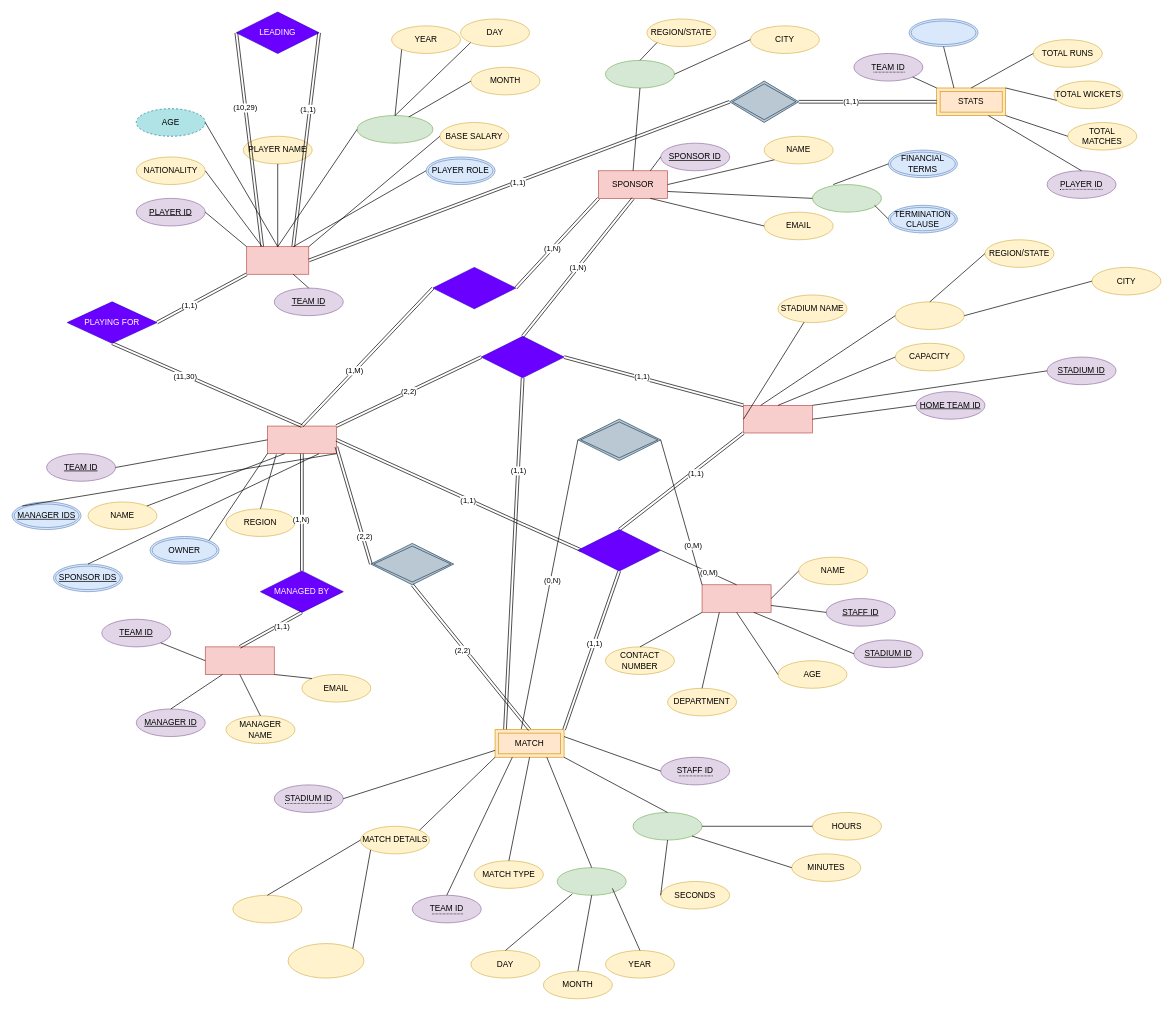
This 1173x1011 diagram has some shape labels left out. The box of each missing label's shape, as (x1, y1, x2, y2) in pixels:
ACHIEVEMENTS: (908, 18, 978, 47)
ADDRESS: (605, 60, 674, 88)
ASSISTING: (577, 529, 661, 571)
ASSOCIATED: (481, 336, 564, 378)
ASSOCIATED WITH: (729, 80, 799, 122)
DATE: (556, 867, 626, 895)
DATE OF BIRTH: (356, 115, 433, 143)
LOCALITY: (895, 301, 964, 329)
PLAYER: (246, 246, 309, 274)
SCHEDULED BETWEEN: (370, 543, 454, 585)
SPONSORING: (432, 267, 516, 309)
SPONSORSHIP CONTRACTS: (812, 184, 881, 212)
STADIUM: (743, 405, 812, 433)
STAFF: (701, 584, 771, 612)
TEAM: (267, 425, 336, 454)
TEAM MANAGER: (205, 646, 274, 674)
TIME: (632, 812, 702, 840)
TOSS WINNER: (232, 895, 302, 923)
TOTAL NUMBER OF STUMPINGS: (287, 943, 364, 978)
WORKING: (577, 418, 661, 461)
